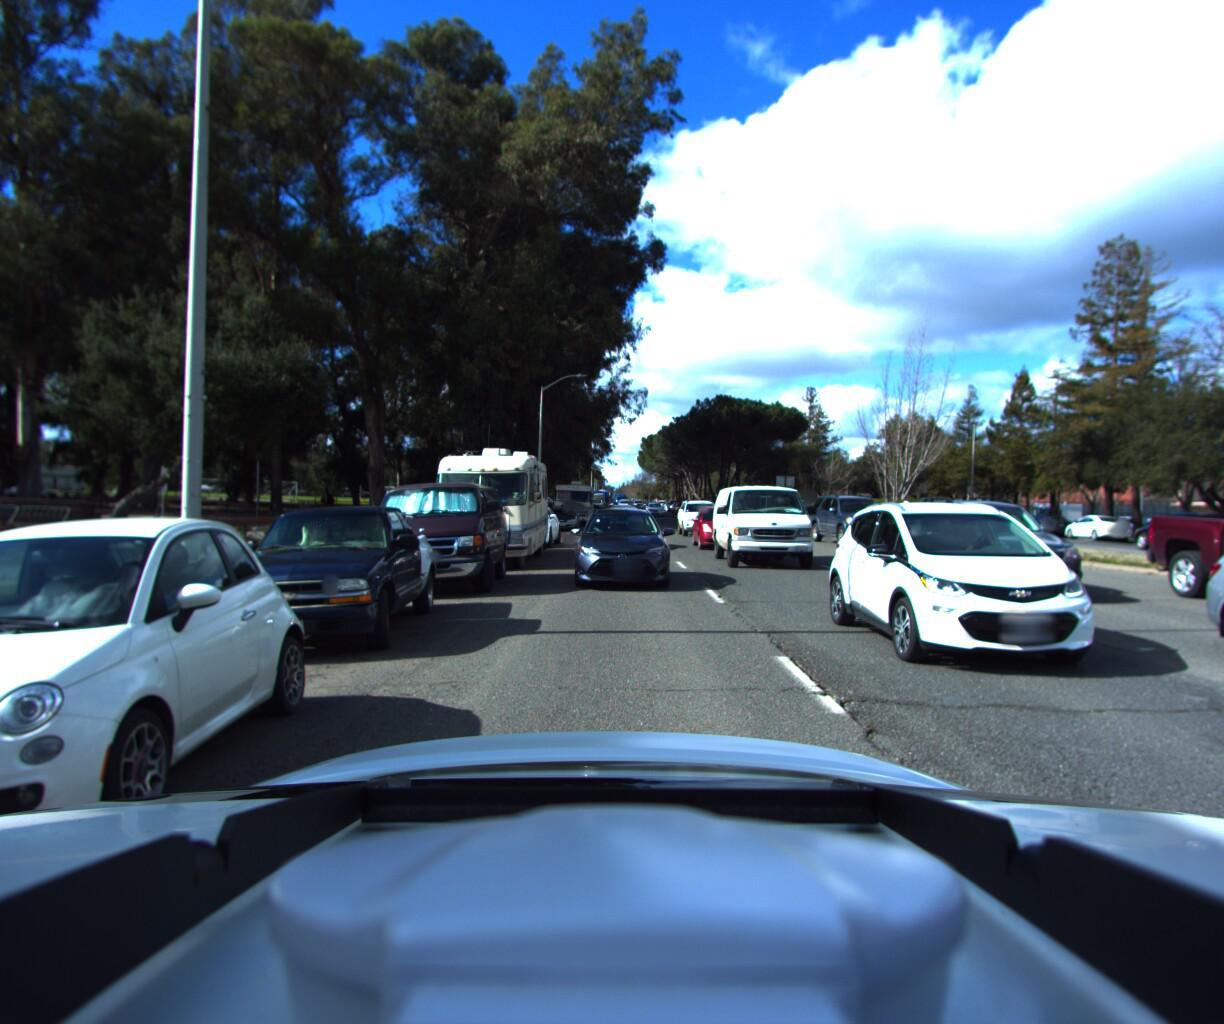bus: (418, 427, 557, 571)
car: (0, 505, 340, 918), (840, 478, 1172, 692), (186, 502, 454, 667), (895, 489, 1102, 603), (354, 480, 516, 604), (1143, 468, 1224, 646), (708, 479, 827, 575), (573, 503, 680, 602), (805, 494, 901, 549), (1210, 513, 1224, 793), (690, 501, 755, 557), (497, 506, 566, 553), (597, 502, 652, 553), (1062, 514, 1140, 547), (552, 481, 599, 529), (676, 501, 722, 542), (1014, 515, 1079, 542), (549, 509, 586, 541), (645, 504, 668, 521)
other_vehicle: (584, 494, 609, 520)
